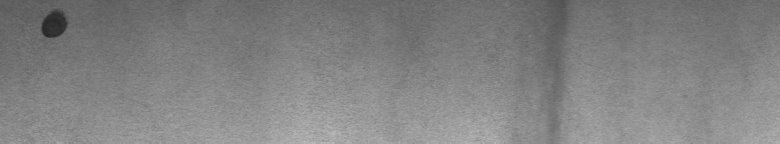fi: (27, 4, 82, 48)
